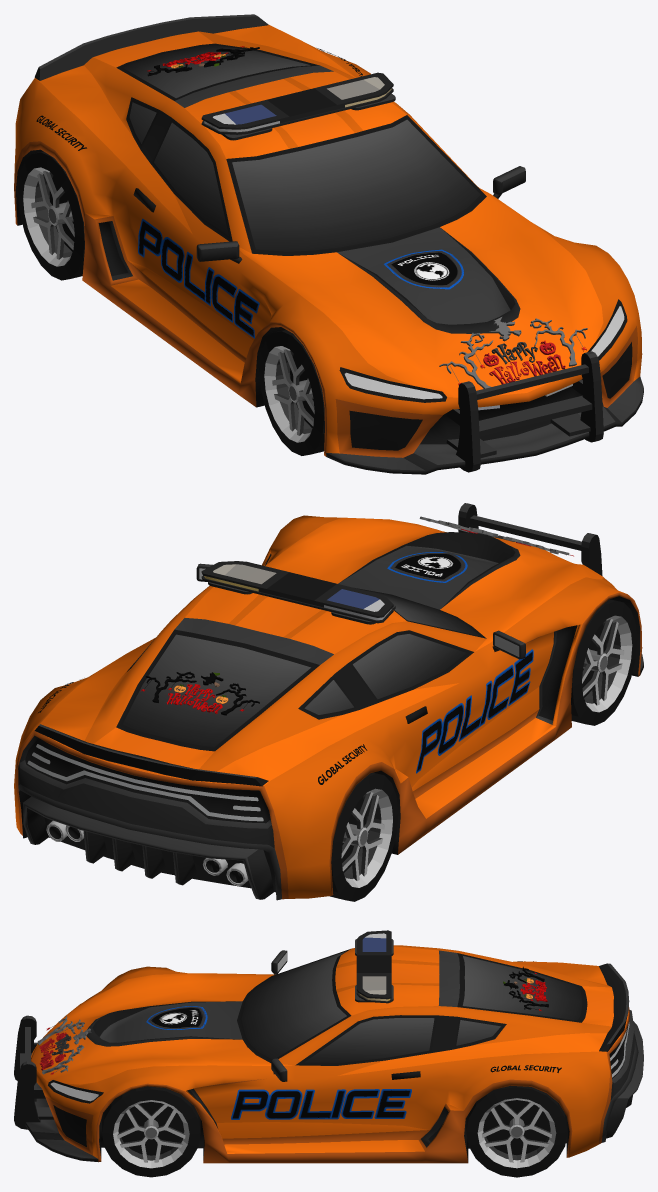
File: car3.fbx
The picture shows the model from 3 angles, top to bottom: view 1: azimuth 30°, elevation 25°; view 2: azimuth 150°, elevation 25°; view 3: azimuth 270°, elevation 25°; orthographic projection. The views are drawn at different scales.
Parts seen in each view (by area): view 1: Body_Texture_Atlas_0, RearRightWheel_Texture_Atlas_0, FrontRightWheel_Texture_Atlas_0, Happy_Halloween_04_Halloween_props1_0, Happy_Halloween_04_Halloween_props1_0.001; view 2: Body_Texture_Atlas_0, RearRightWheel_Texture_Atlas_0, FrontRightWheel_Texture_Atlas_0, Happy_Halloween_04_Halloween_props1_0.001, Happy_Halloween_04_Halloween_props1_0; view 3: Body_Texture_Atlas_0, RearLeftWheel_Texture_Atlas_0, FrontLeftWheel_Texture_Atlas_0, Happy_Halloween_04_Halloween_props1_0, Happy_Halloween_04_Halloween_props1_0.001.
Part boxes in pixels (x1,y1,x2,y2): Body_Texture_Atlas_0: (14, 14, 643, 474); RearRightWheel_Texture_Atlas_0: (18, 151, 84, 280); FrontRightWheel_Texture_Atlas_0: (259, 329, 324, 455); Happy_Halloween_04_Halloween_props1_0: (439, 317, 587, 388); Happy_Halloween_04_Halloween_props1_0.001: (147, 46, 259, 76); Body_Texture_Atlas_0: (14, 503, 643, 900); RearRightWheel_Texture_Atlas_0: (330, 772, 398, 901); FrontRightWheel_Texture_Atlas_0: (571, 599, 637, 725); Happy_Halloween_04_Halloween_props1_0.001: (141, 671, 259, 715); Happy_Halloween_04_Halloween_props1_0: (419, 516, 573, 556); Body_Texture_Atlas_0: (14, 930, 643, 1163); RearLeftWheel_Texture_Atlas_0: (466, 1085, 567, 1177); FrontLeftWheel_Texture_Atlas_0: (102, 1086, 200, 1177); Happy_Halloween_04_Halloween_props1_0: (37, 1015, 91, 1074); Happy_Halloween_04_Halloween_props1_0.001: (503, 966, 548, 1010).
Bounding box in the file's own units: 218 × 130 × 477.
Materials: 3 (3 with a texture image).
